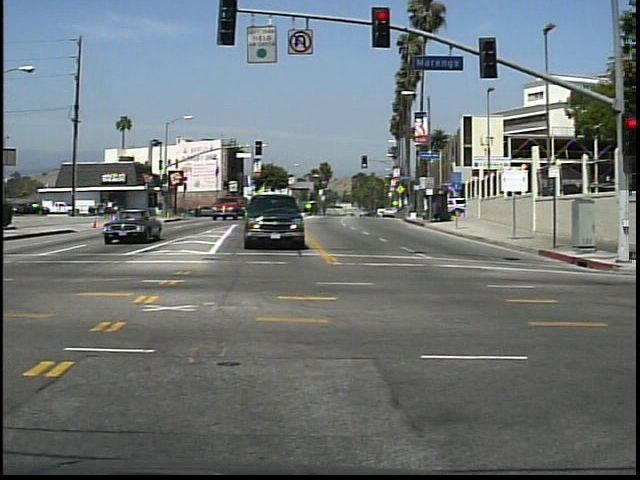person: (105, 197, 110, 223)
